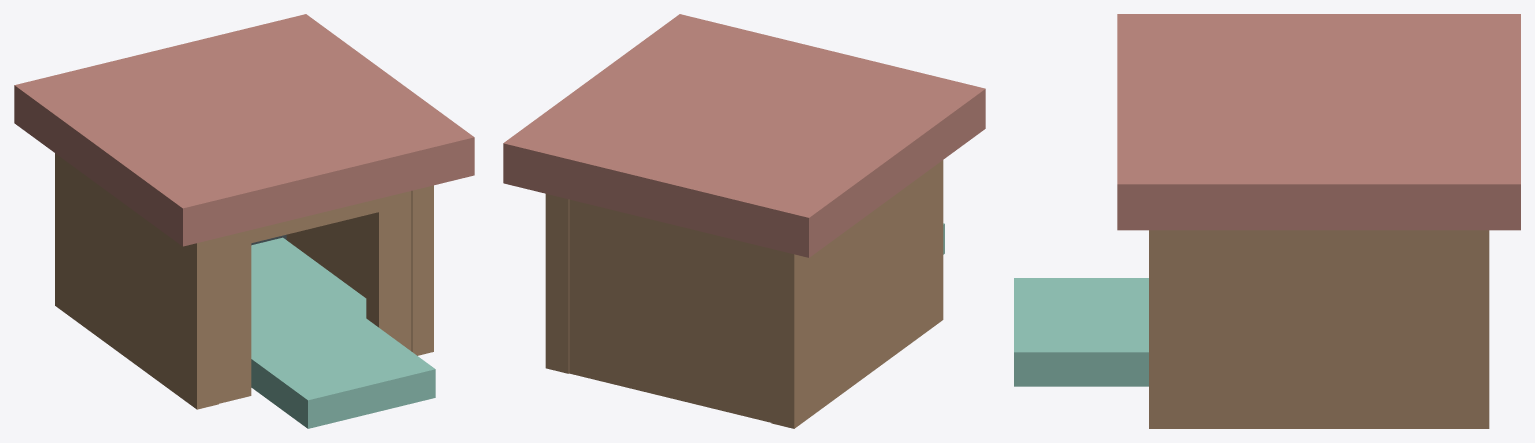
File: doghouse.glb
3 renders of one model, left to right at view 1: azimuth 30°, elevation 25°; view 2: azimuth 150°, elevation 25°; view 3: azimuth 270°, elevation 25°, orthographic. The views are drawn at different scales.
Visible parts, largest first — view 1: kennel roof, door frame, kennel bed; view 2: kennel roof, door frame; view 3: kennel roof, door frame, kennel bed.
Boxes of the visible parts, box(x1,y1,x2,y2) form: kennel roof: box(14, 14, 474, 246); door frame: box(55, 153, 433, 409); kennel bed: box(251, 237, 435, 428); kennel roof: box(503, 14, 985, 257); door frame: box(545, 160, 943, 428); kennel roof: box(1117, 14, 1520, 230); door frame: box(1149, 230, 1489, 428); kennel bed: box(1014, 278, 1148, 386).
Size of the model in its own units: 1.6 by 1.14 by 2.01.
